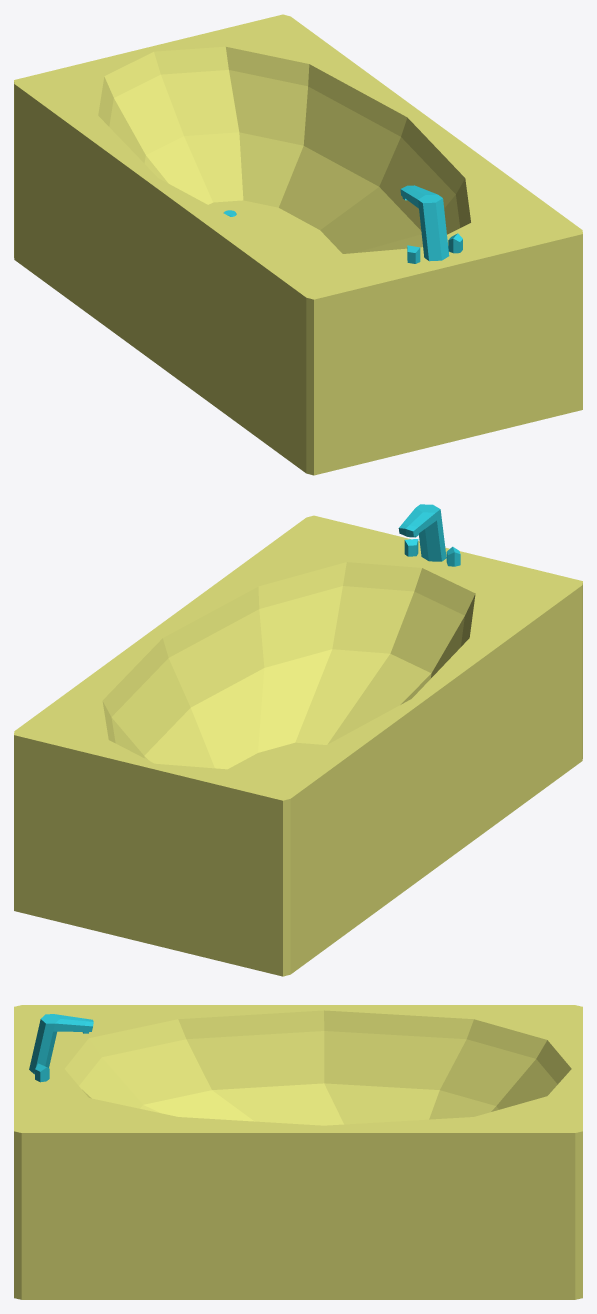
File: bathtub.fbx
The picture shows the model from 3 angles, top to bottom: view 1: azimuth 30°, elevation 25°; view 2: azimuth 150°, elevation 25°; view 3: azimuth 270°, elevation 25°; orthographic projection. The views are drawn at different scales.
Visible parts, largest first — view 1: tub, faucet; view 2: tub, faucet; view 3: tub, faucet.
Part boxes in pixels (box(x1,y1,x2,y2)): tub: box(14, 14, 582, 475); faucet: box(400, 185, 462, 263); tub: box(14, 515, 582, 976); faucet: box(398, 504, 460, 566); tub: box(14, 1005, 582, 1299); faucet: box(29, 1014, 93, 1082).
Bounding box in the file's own units: 224 × 177 × 420.
